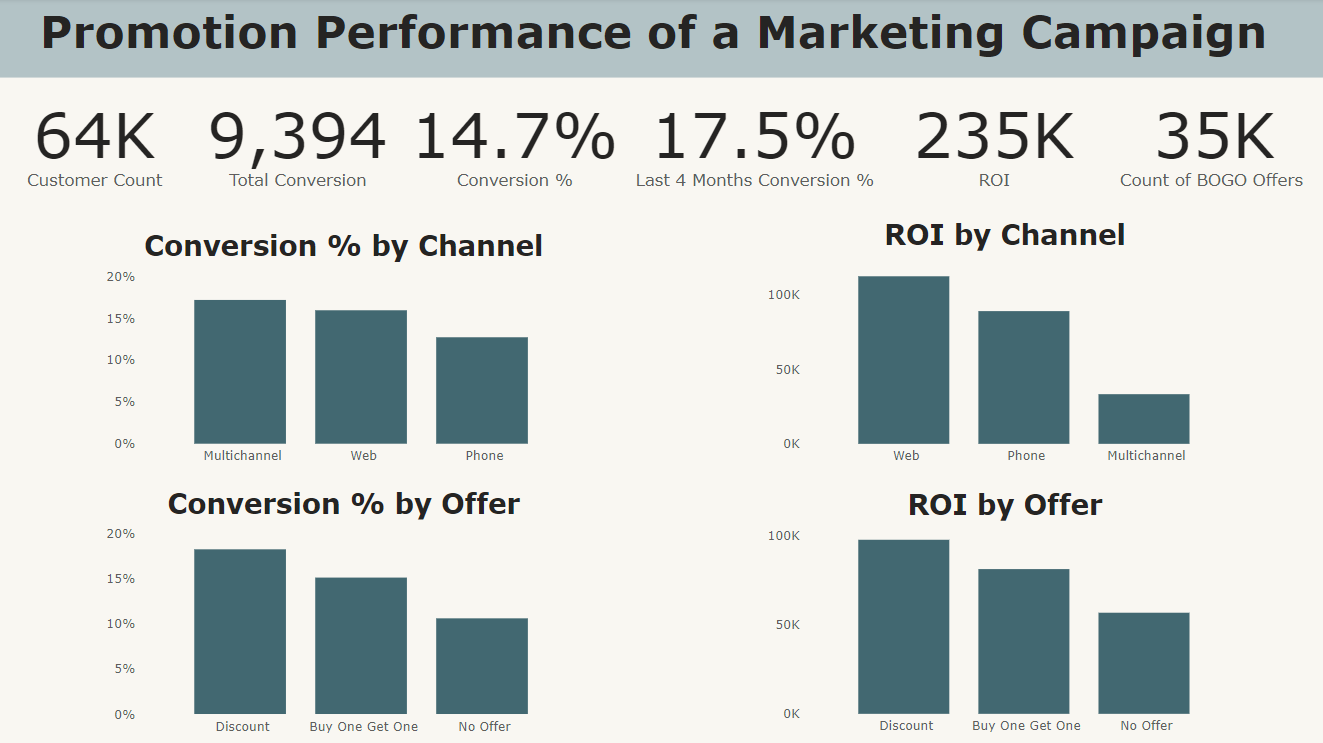

Layout of this report page (visuals, bound fields, positions):
{"tool":"powerbi","page":{"name":"Page 1","canvas":[1280,720],"ordinal":0},"visuals":[{"type":"textbox","box":[0,0,1280.3,76.8],"z":0},{"type":"card","fields":{"Values":["C1_Marketing_Promotion.ROI"]},"box":[854.9,76.8,212.7,122.1],"z":2000},{"type":"card","fields":{"Values":["Sum(C1_Marketing_Promotion.used_bogo)"]},"box":[1067.5,77,212.8,122.3],"z":3000},{"type":"card","fields":{"Values":["C1_Marketing_Promotion.Last 4 Months Conversion %"]},"box":[605.6,77.2,249.7,121.9],"z":4000},{"type":"card","fields":{"Values":["C1_Marketing_Promotion.Conversion %"]},"box":[392.1,77.2,213.5,121.9],"z":5000},{"type":"card","fields":{"Values":["C1_Marketing_Promotion.Total Conversion"]},"box":[187,77.2,205.1,121.9],"z":6000},{"type":"card","fields":{"Values":["C1_Marketing_Promotion.Customer Count"]},"box":[0,77.2,187,121.9],"z":7000},{"type":"columnChart","title":"Conversion % by Channel","fields":{"Category":["C1_Marketing_Promotion.channel"],"Y":["C1_Marketing_Promotion.Conversion %"]},"box":[98.8,222.3,469.3,237.4],"z":8000},{"type":"columnChart","title":"Conversion % by Offer","fields":{"Y":["C1_Marketing_Promotion.Conversion %"],"Category":["C1_Marketing_Promotion.offer"]},"box":[98.8,470.7,469.3,249.7],"z":9000},{"type":"columnChart","title":"ROI by Channel","fields":{"Category":["C1_Marketing_Promotion.channel"],"Y":["C1_Marketing_Promotion.ROI"]},"box":[736.9,211.3,469.3,248.4],"z":10000},{"type":"columnChart","title":"ROI by Offer","fields":{"Category":["C1_Marketing_Promotion.offer"],"Y":["C1_Marketing_Promotion.ROI"]},"box":[736.9,472,469.3,248.4],"z":11000}]}

Visuals, with their boxes in screenshot pixels (x1, y1, x2, y2), scaled from the page's 1280x720 canvas onto the 1323x743 screenshot:
textbox: (left=0, top=0, right=1322, bottom=79)
card - C1_Marketing_Promotion.ROI: (left=884, top=79, right=1103, bottom=205)
card - Sum(C1_Marketing_Promotion.used_bogo): (left=1103, top=79, right=1322, bottom=206)
card - C1_Marketing_Promotion.Last 4 Months Conversion %: (left=626, top=80, right=884, bottom=205)
card - C1_Marketing_Promotion.Conversion %: (left=405, top=80, right=626, bottom=205)
card - C1_Marketing_Promotion.Total Conversion: (left=193, top=80, right=405, bottom=205)
card - C1_Marketing_Promotion.Customer Count: (left=0, top=80, right=193, bottom=205)
"Conversion % by Channel" columnChart: (left=102, top=229, right=587, bottom=474)
"Conversion % by Offer" columnChart: (left=102, top=486, right=587, bottom=742)
"ROI by Channel" columnChart: (left=762, top=218, right=1247, bottom=474)
"ROI by Offer" columnChart: (left=762, top=487, right=1247, bottom=742)
